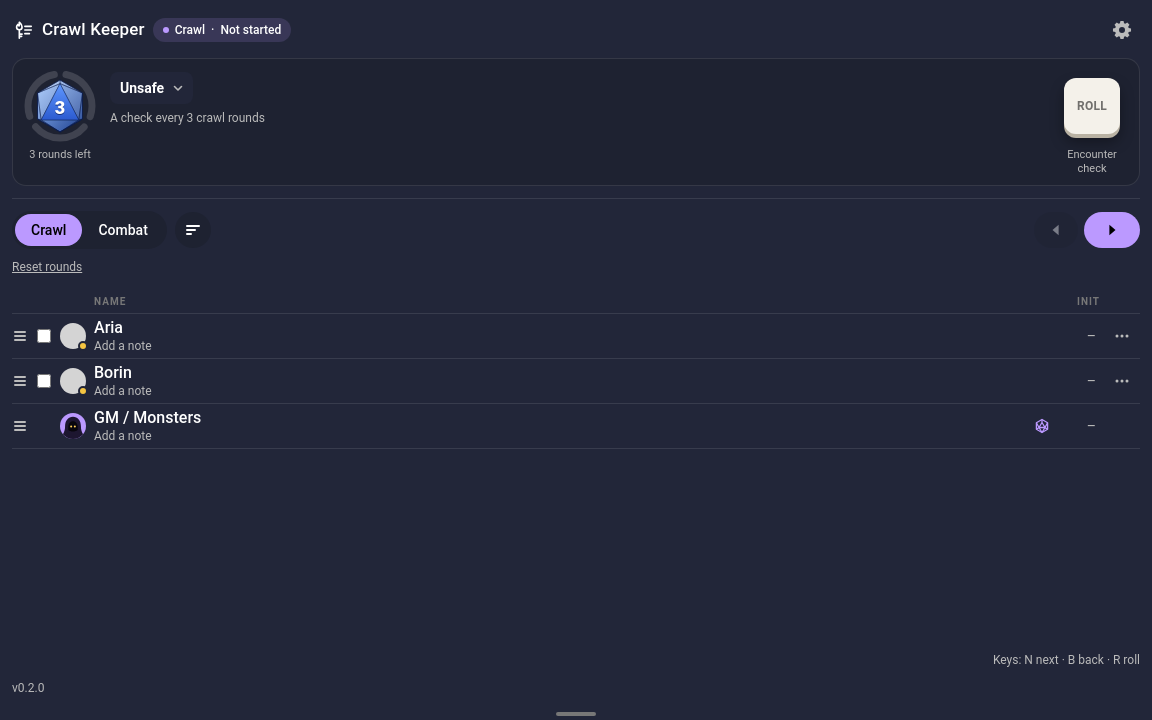
Test case: Tracker (GM) › begins on the first ▶, advances and wraps the round, saving to the scene
The image size is (1152, 720).
Check: the text "Not started" is shown, box [220,22,281,38]
Check: the button named "Previous turn" is disabled, box [1034,212,1078,248]
Click the button named "Next turn".
click(1112, 230)  # box [1084,212,1140,248]
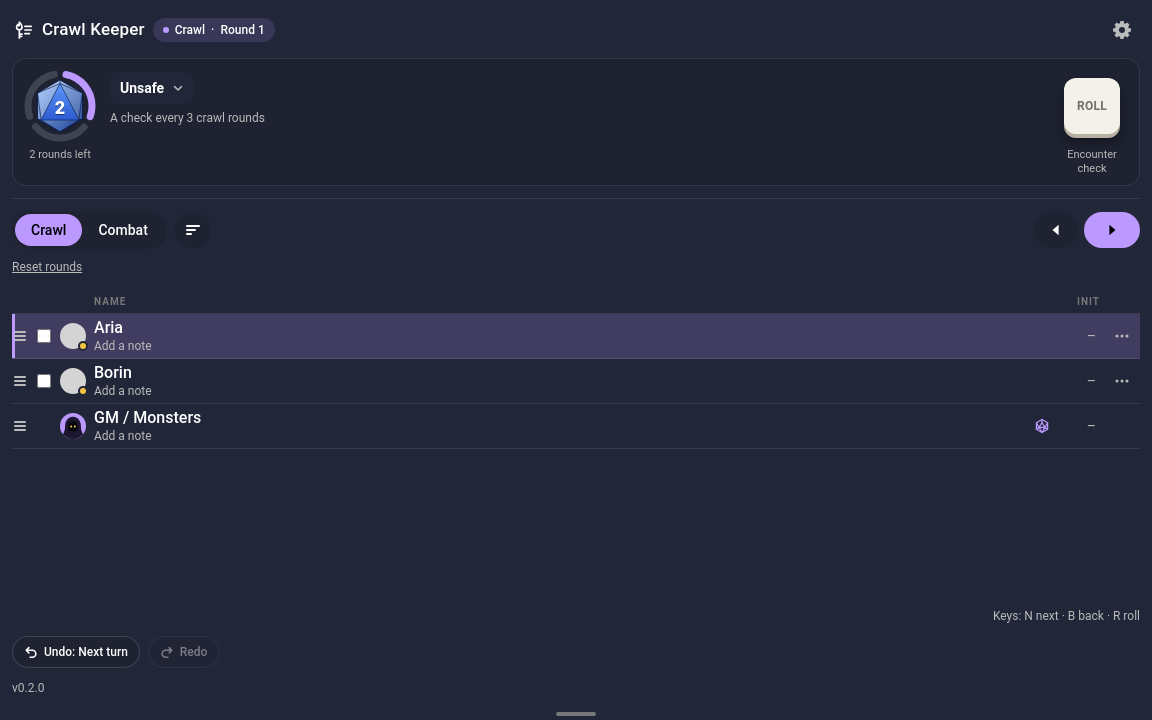
Check: the list item "Aria" is marked as current, box [12,314,1140,358]
Click the button named "Next turn".
click(1112, 230)  # box [1084,212,1140,248]
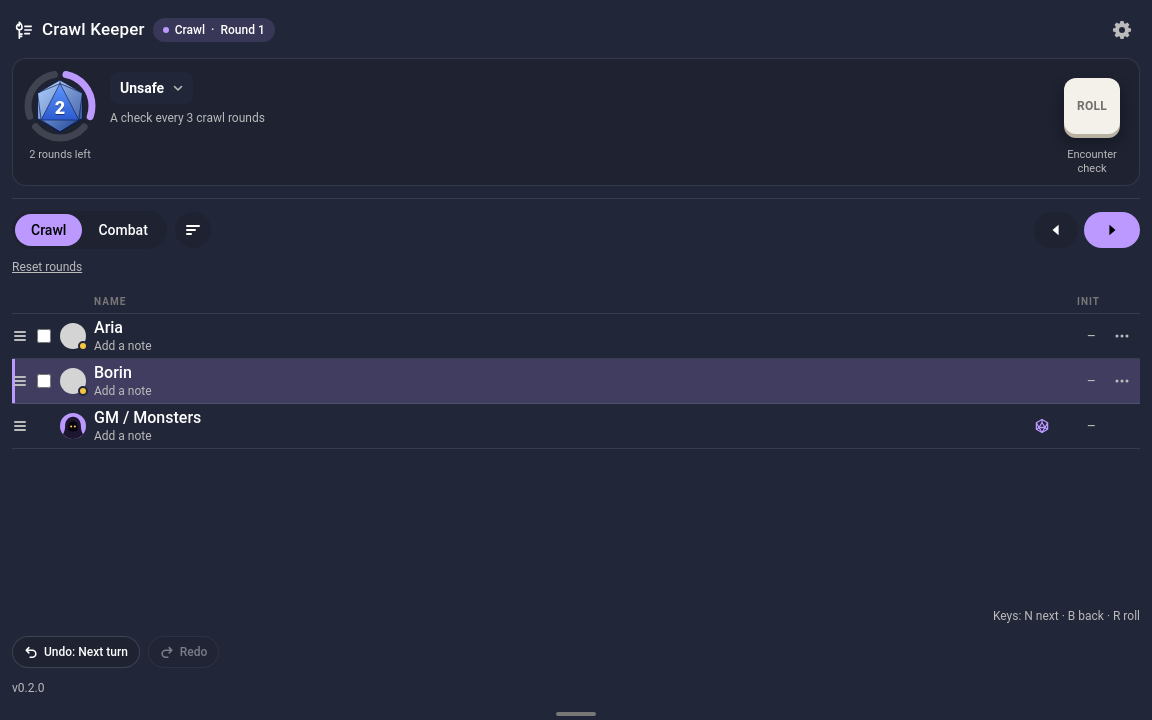
Click the button named "Next turn".
click(1112, 230)  # box [1084,212,1140,248]
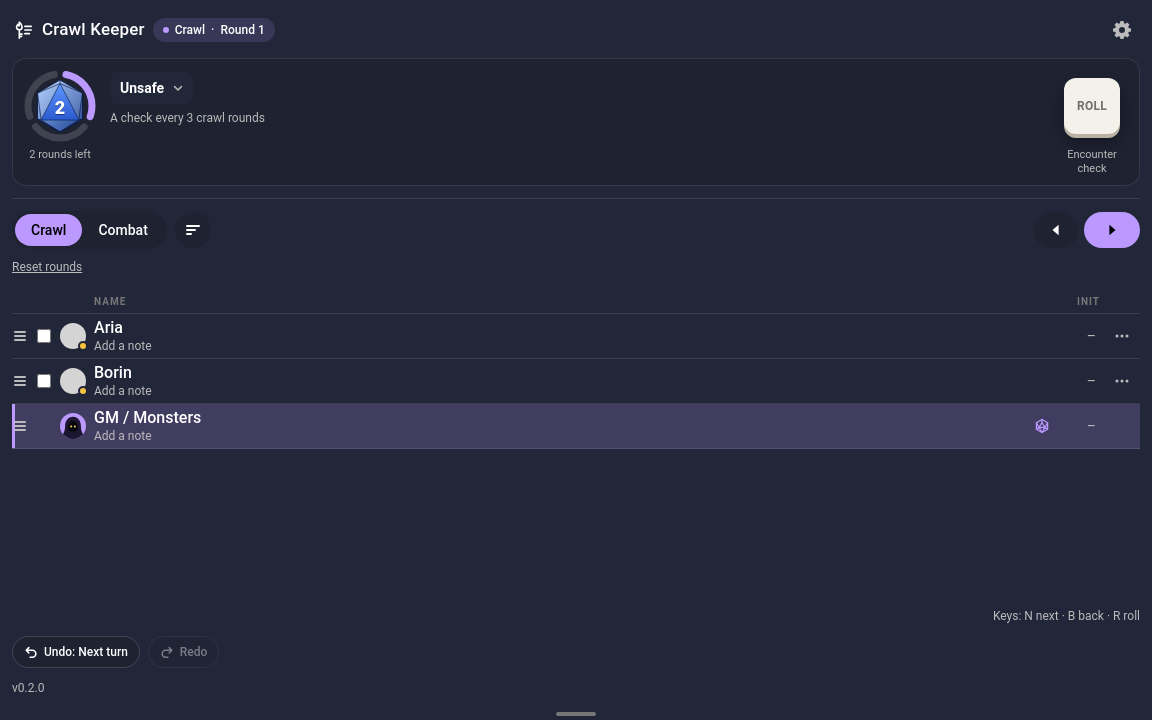
Click the button named "Next turn".
click(1112, 230)  # box [1084,212,1140,248]
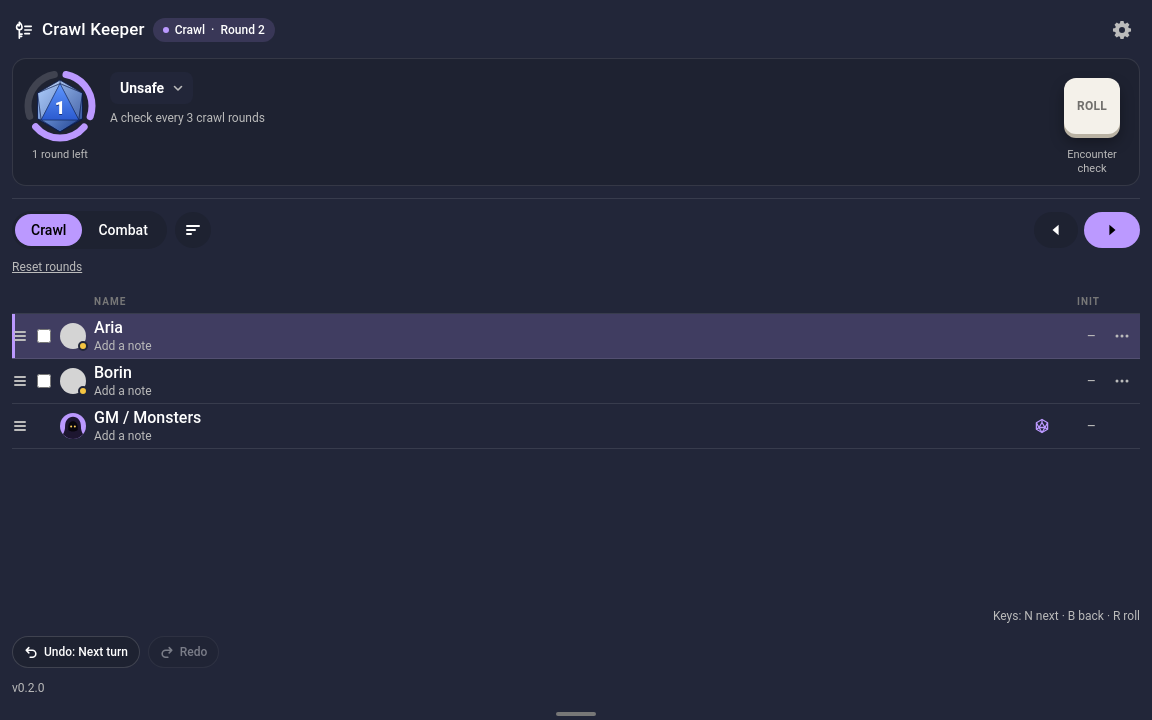
Check: the text "Round 2" is shown, box [220,22,265,38]
